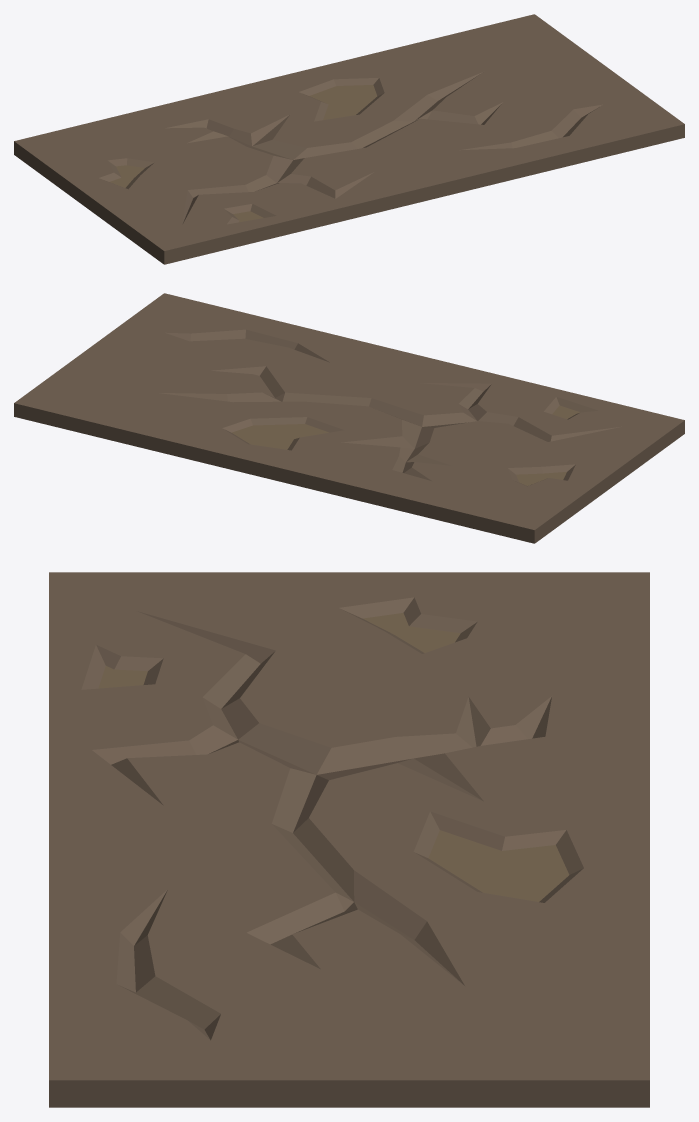
Rendered from LP_PostApoc_LongPavement2.fbx.
The picture shows the model from 3 angles, top to bottom: view 1: azimuth 30°, elevation 25°; view 2: azimuth 150°, elevation 25°; view 3: azimuth 270°, elevation 25°; orthographic projection. The views are drawn at different scales.
Parts seen in each view (by area): view 1: LongPavement2; view 2: LongPavement2; view 3: LongPavement2.
Boxes of the visible parts, x1,y1,x2,y2 form: LongPavement2: [14, 14, 684, 264]; LongPavement2: [14, 293, 684, 543]; LongPavement2: [49, 572, 649, 1107].
Size of the model in its own units: 800 by 20 by 400.
